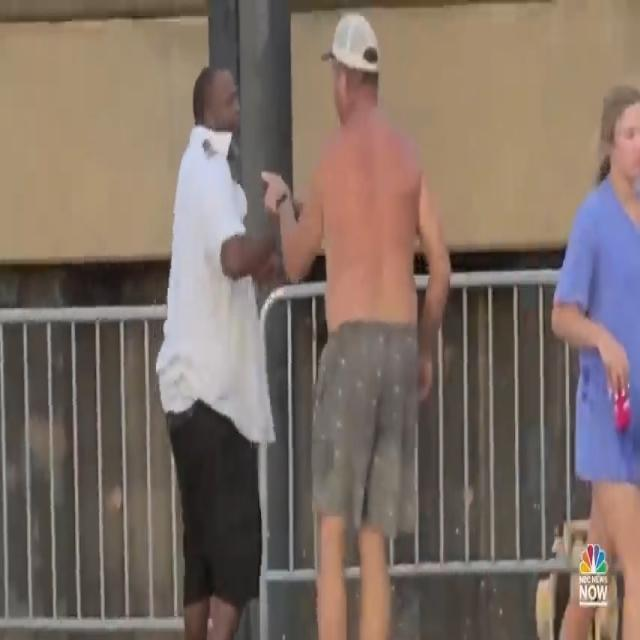non-fight: (157, 10, 451, 640), (549, 71, 640, 640)
